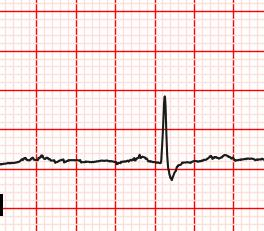ST Depression: (154, 157, 185, 184)
